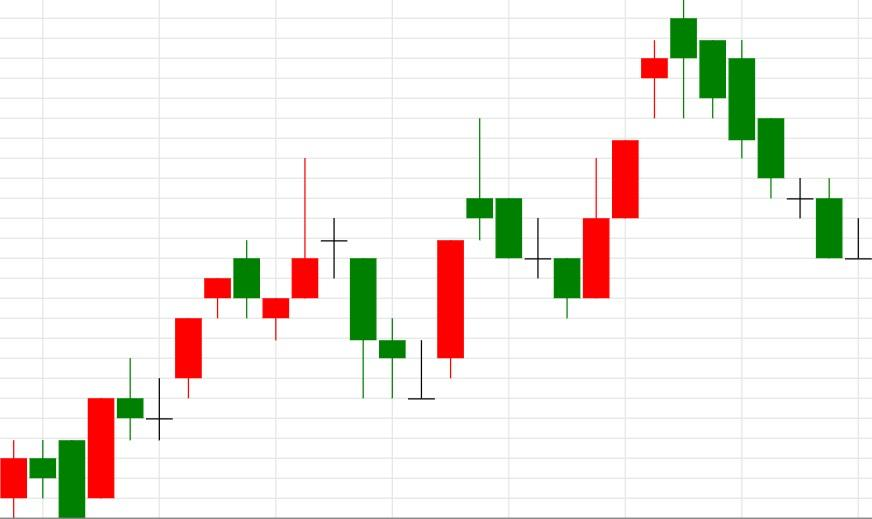evening_star_fall: (0, 158, 378, 518)
